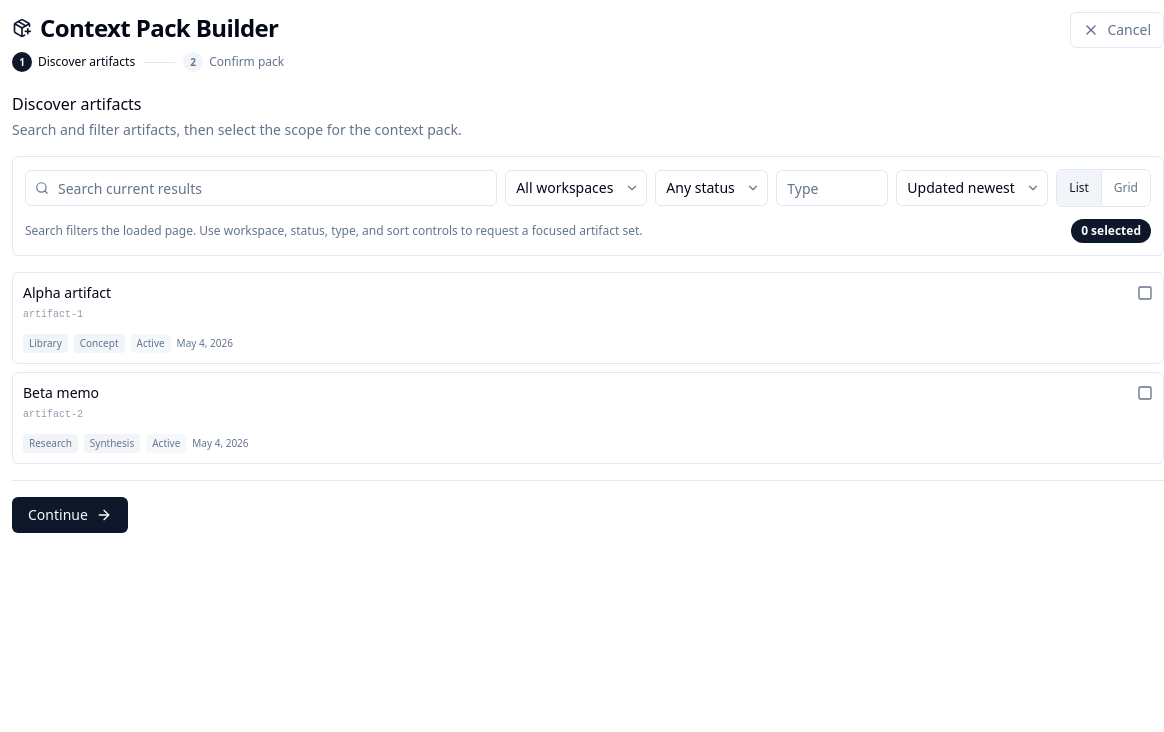
Scenario: ContextPackBuilder › validates that at least one artifact is selected before step 2
Expected: the checkbox labelled "Alpha artifact artifact-1 library concept active May 4, 2026" is shown, top-left (12, 272), bottom-right (1163, 364)
Click the button "Continue". click: (70, 515)
box: top-left (12, 497), bottom-right (128, 533)
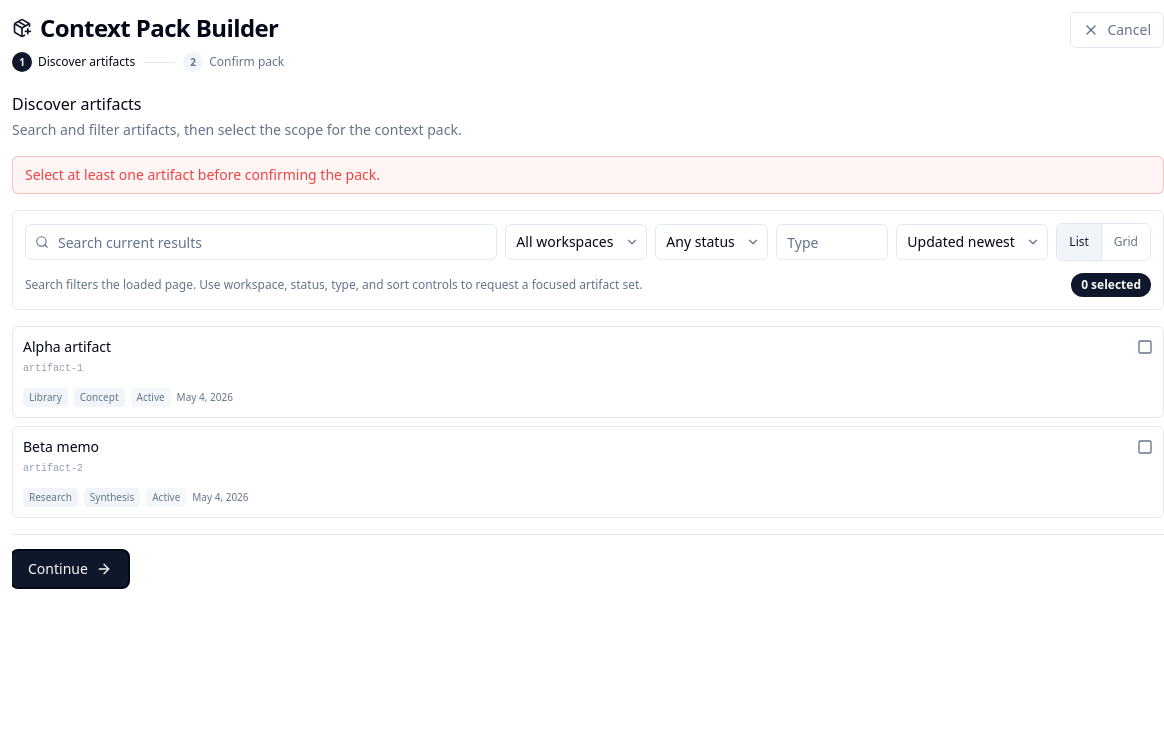
Now the message shows "Select at least one", box top-left (25, 165), bottom-right (380, 184)
